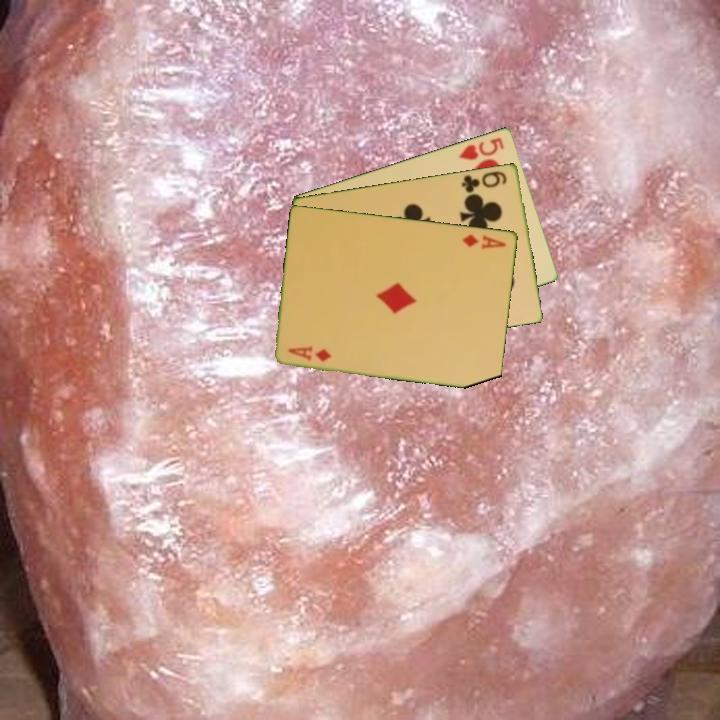5h: (455, 134, 507, 163)
6c: (458, 167, 510, 195)
Ad: (459, 230, 509, 252), (285, 343, 334, 364)
